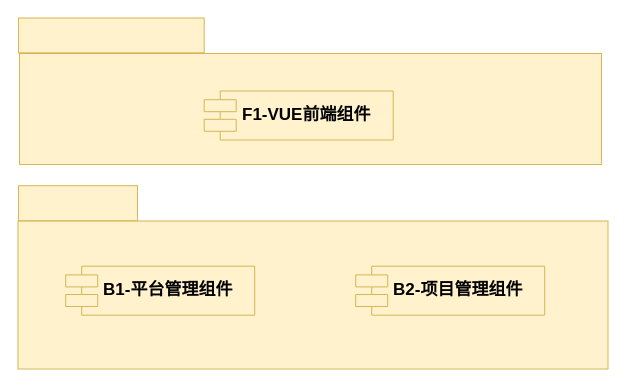
This 625x386 diagram has some shape labels left out. Here are the shapes that lost their labels. From the top down, the box of each, then its label:
(18, 17, 204, 53): 展现层
(18, 185, 138, 221): 业务服务层
